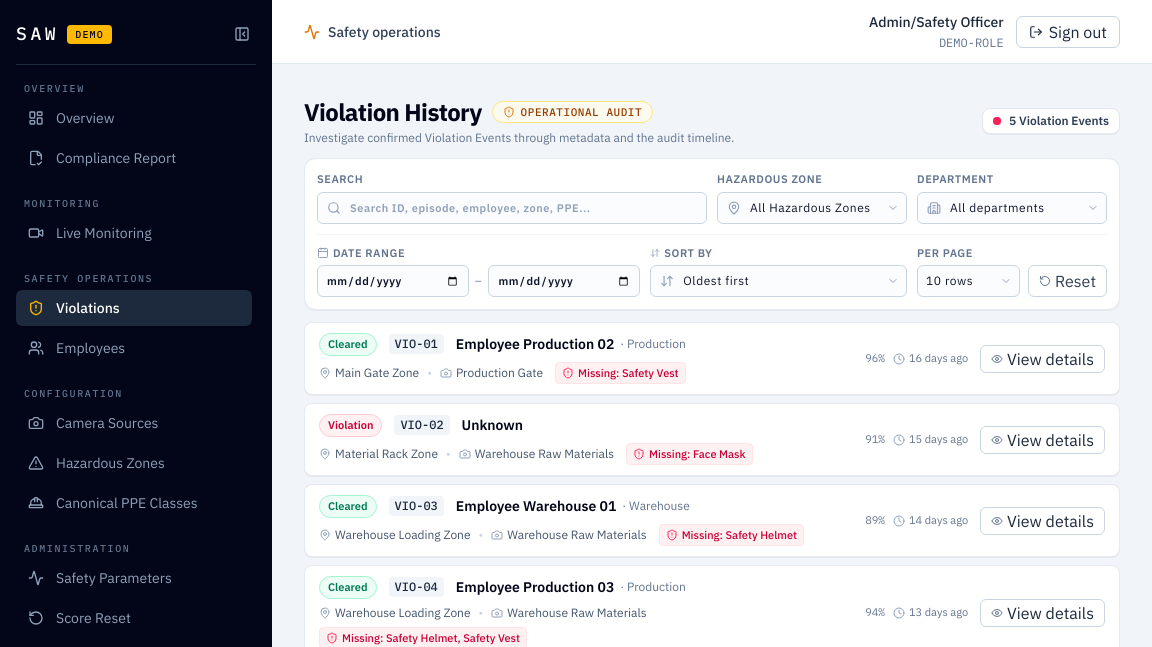
Test case: Violations › shows an auditable Violation History without a snapshot
Expected: the button with aria-label "View details VIO-01" is shown, [980, 344, 1105, 372]
Expected: the heading "Violation History" is shown, [304, 96, 482, 128]
Click the button with aria-label "View details VIO-02": (1043, 440) [980, 426, 1105, 454]
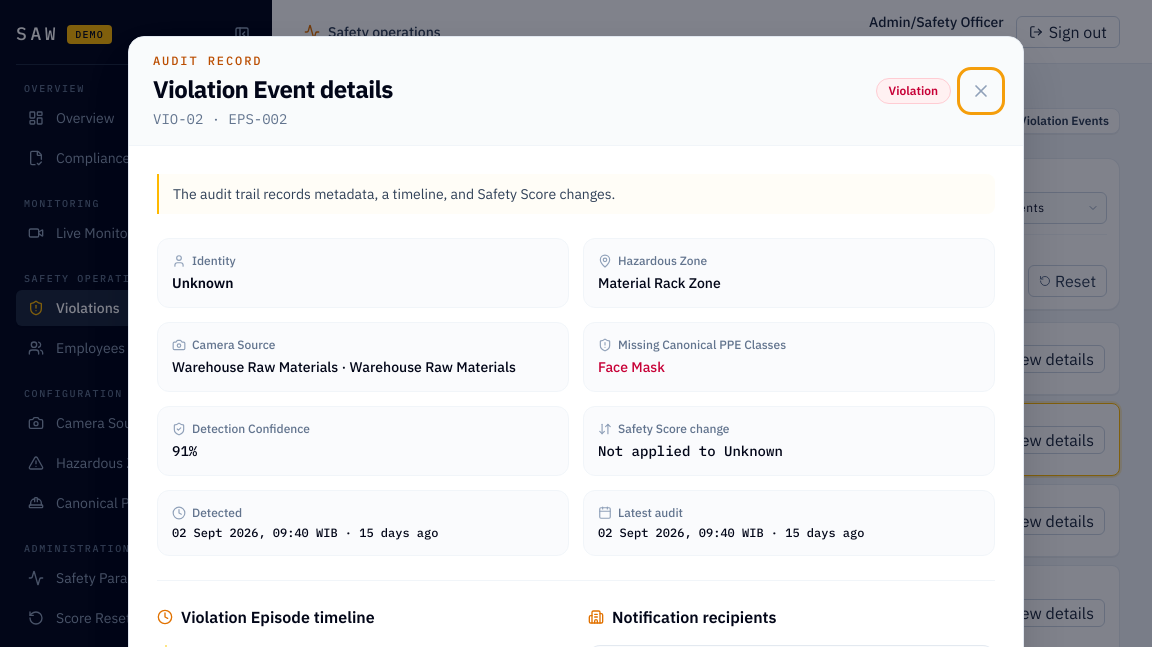
Result: the heading "Violation Event details" is shown at [153, 73, 393, 105]
Result: the heading "Violation Episode timeline" is shown at [157, 607, 375, 627]
Result: the text "Face Mask" is shown at [598, 358, 665, 376]
